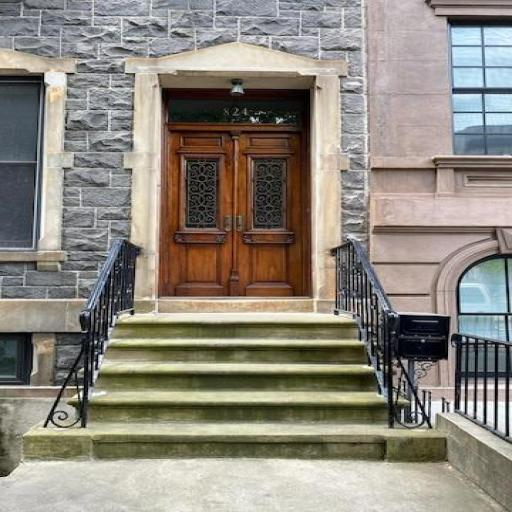door: (134, 88, 346, 299)
